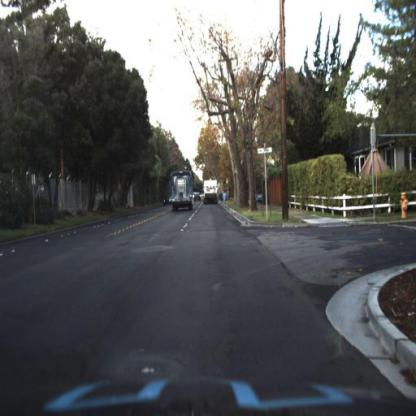truck: (170, 167, 196, 217), (202, 176, 222, 207)
